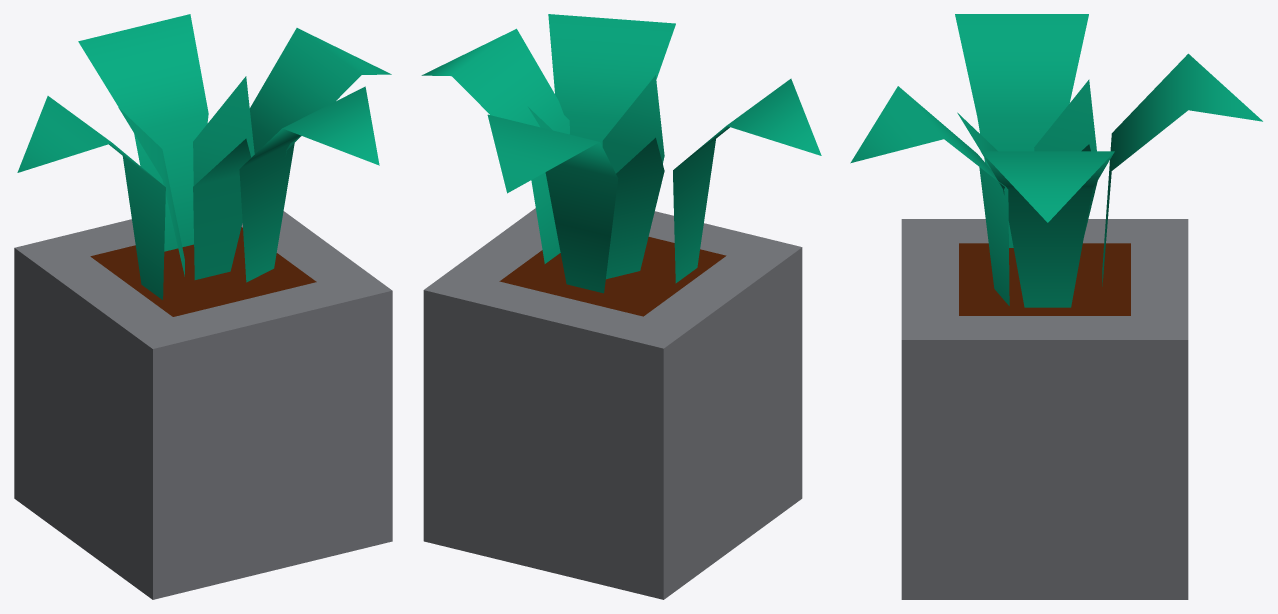
File: simple_planT.glb
3 views of the same model, side by side, from view 1: azimuth 30°, elevation 25°; view 2: azimuth 150°, elevation 25°; view 3: azimuth 270°, elevation 25° (orthographic). The views are drawn at different scales.
Visible parts, largest first — view 1: mergedBlocks(Clone); view 2: mergedBlocks(Clone); view 3: mergedBlocks(Clone).
Boxes of the visible parts, x1=… form: mergedBlocks(Clone): x1=14, y1=14, x2=392, y2=599; mergedBlocks(Clone): x1=421, y1=14, x2=821, y2=599; mergedBlocks(Clone): x1=850, y1=14, x2=1262, y2=599.
Bounding box in the file's own units: 1.62 × 1.76 × 1.44.
